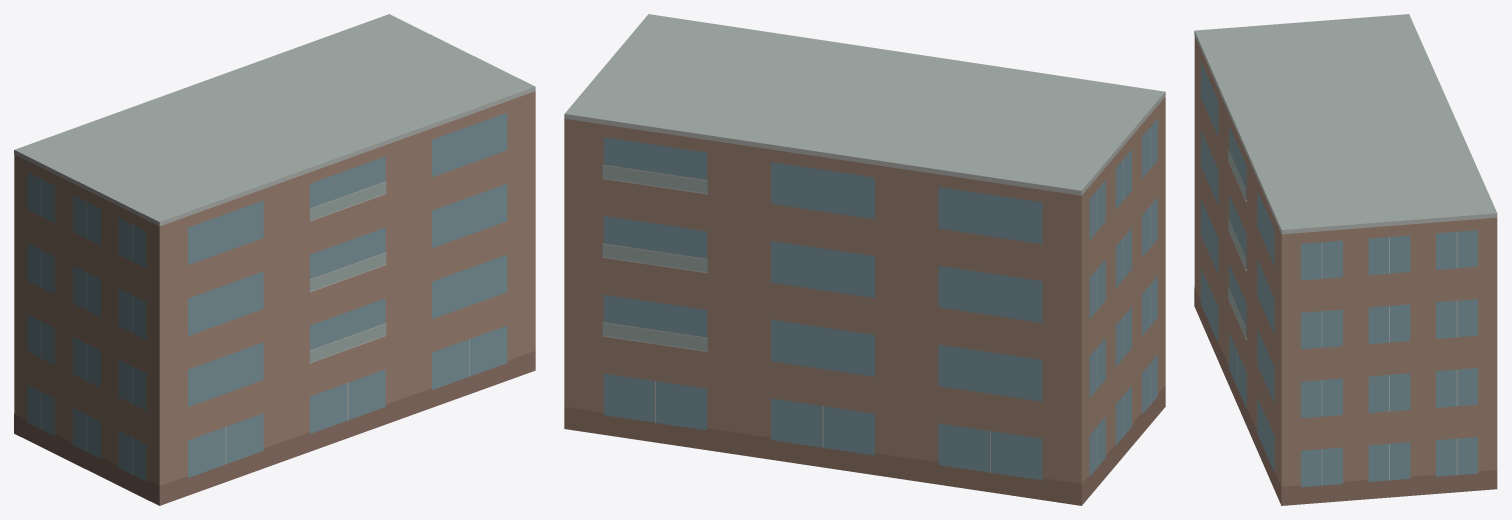
Rendered from survey-upis-32882748.glb.
3 views of the same model, side by side, from view 1: azimuth 30°, elevation 25°; view 2: azimuth 150°, elevation 25°; view 3: azimuth 270°, elevation 25° (orthographic). The views are drawn at different scales.
Parts seen in each view (by area): view 1: survey-upis-32882748.tmp; view 2: survey-upis-32882748.tmp; view 3: survey-upis-32882748.tmp.
Boxes of the visible parts, box(x1,y1,x2,y2) form: survey-upis-32882748.tmp: box(14, 14, 535, 505); survey-upis-32882748.tmp: box(564, 14, 1165, 505); survey-upis-32882748.tmp: box(1194, 14, 1497, 505).
Bounding box in the file's own units: 26.57 × 15.8 × 15.74.
